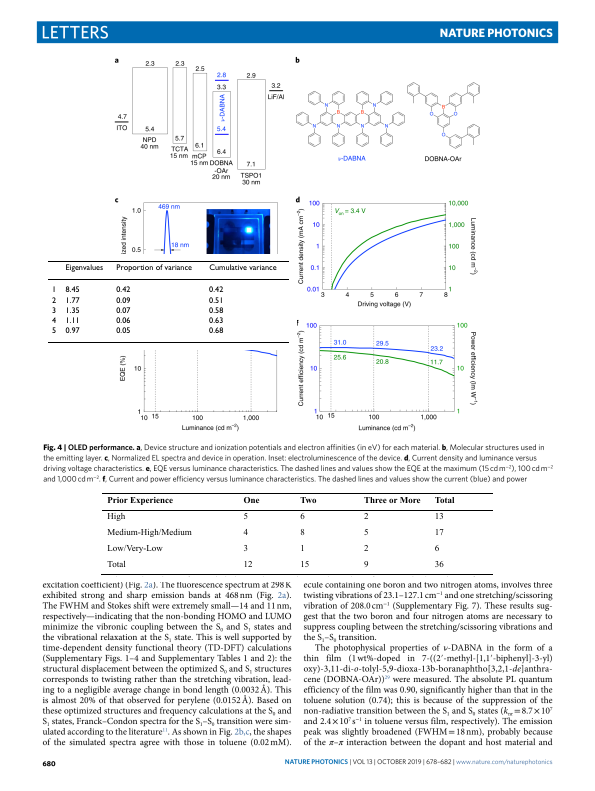borderless: (101, 491, 493, 574), (47, 259, 289, 343)
cell: (106, 528, 192, 538), (115, 263, 192, 273), (208, 263, 277, 273), (106, 495, 173, 505), (362, 495, 421, 505), (106, 544, 163, 554), (64, 263, 104, 273), (433, 495, 455, 505), (106, 512, 126, 522), (106, 560, 126, 570), (242, 495, 260, 505), (299, 495, 317, 505), (64, 296, 80, 306), (115, 296, 131, 306), (208, 296, 224, 306), (64, 306, 80, 316), (115, 306, 131, 316), (208, 306, 224, 316), (64, 316, 80, 326), (115, 316, 131, 326), (208, 316, 224, 326), (64, 286, 80, 295), (115, 286, 131, 295), (208, 286, 224, 295), (64, 327, 80, 336), (115, 327, 131, 336), (208, 327, 224, 336), (433, 512, 444, 522), (433, 528, 444, 538), (242, 560, 253, 570), (299, 560, 310, 570), (433, 560, 444, 570), (362, 512, 369, 522), (362, 528, 369, 538), (362, 544, 369, 554), (433, 544, 440, 554), (362, 560, 369, 570), (50, 296, 57, 306), (50, 306, 57, 316), (50, 316, 57, 326), (50, 286, 57, 295), (50, 327, 57, 336), (242, 512, 248, 522), (299, 512, 305, 522), (242, 528, 248, 538), (299, 528, 305, 538), (242, 544, 248, 554), (299, 544, 305, 554)
